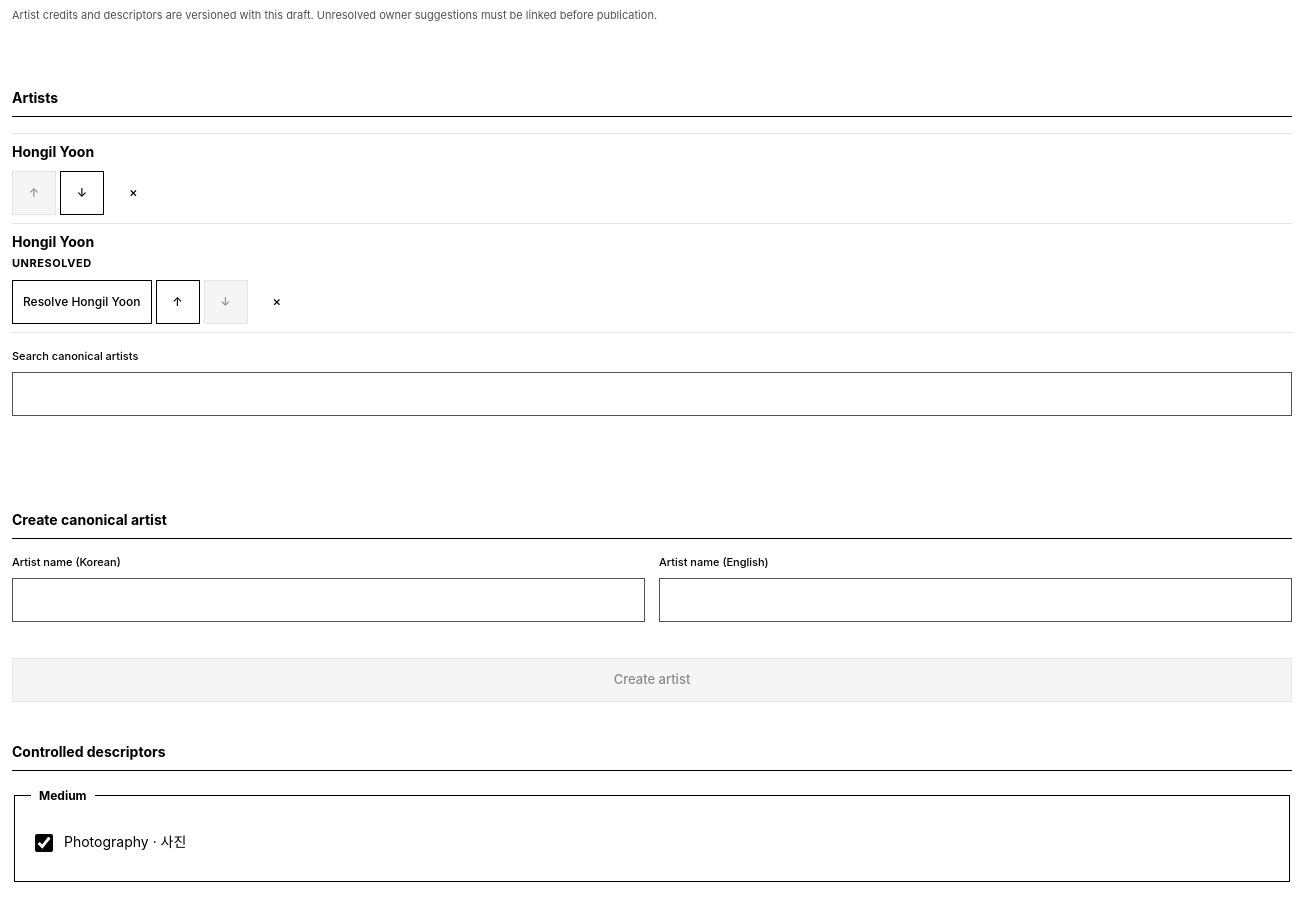
ExhibitionArtMetadataEditor › deduplicates an existing canonical credit when linking a suggestion
This screenshot has width=1304, height=900.
Click the button "Resolve Hongil Yoon": (82, 302) [12,280,152,324]
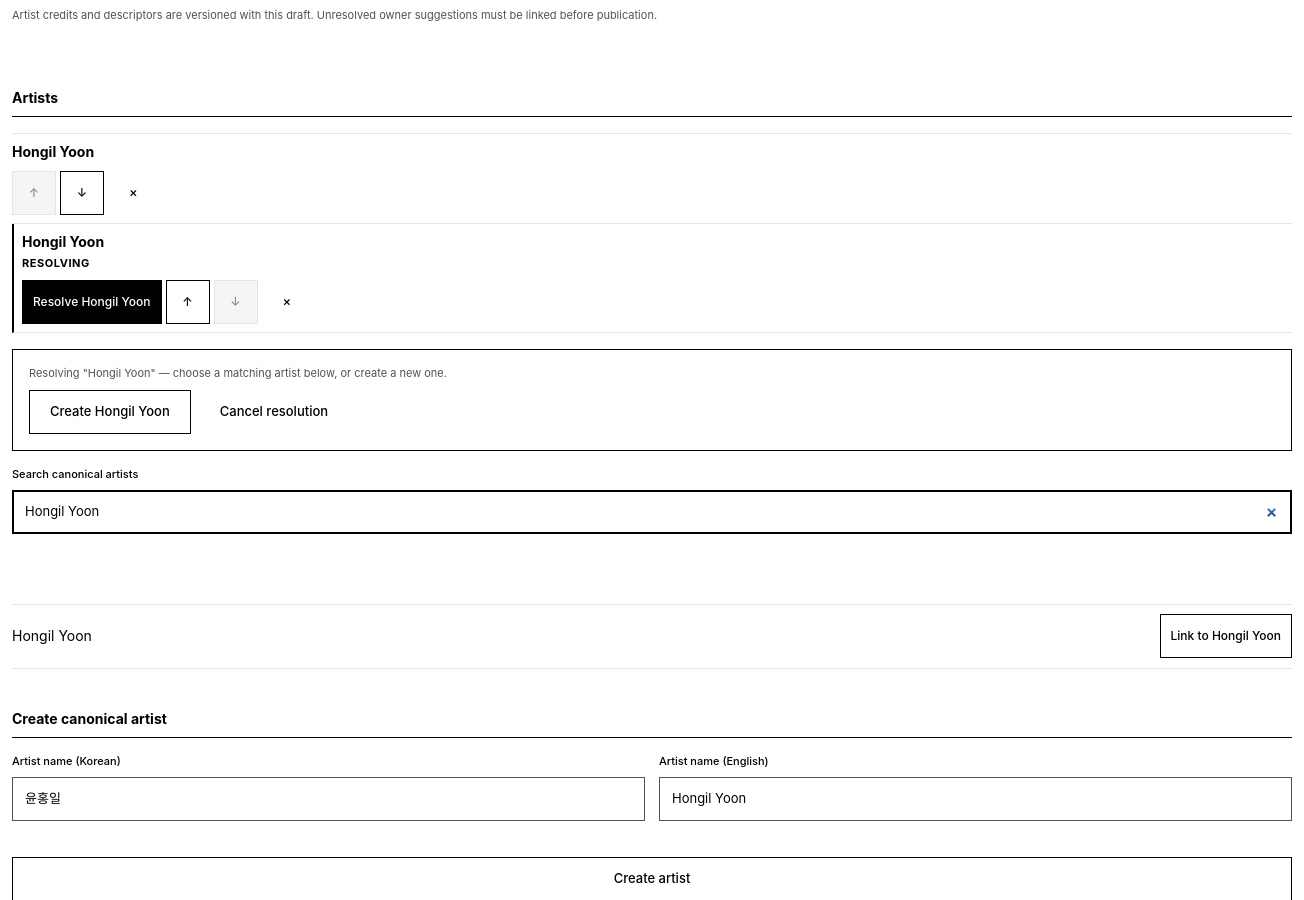
Click the button "Link to Hongil Yoon": (1226, 636) [1160,614,1292,658]
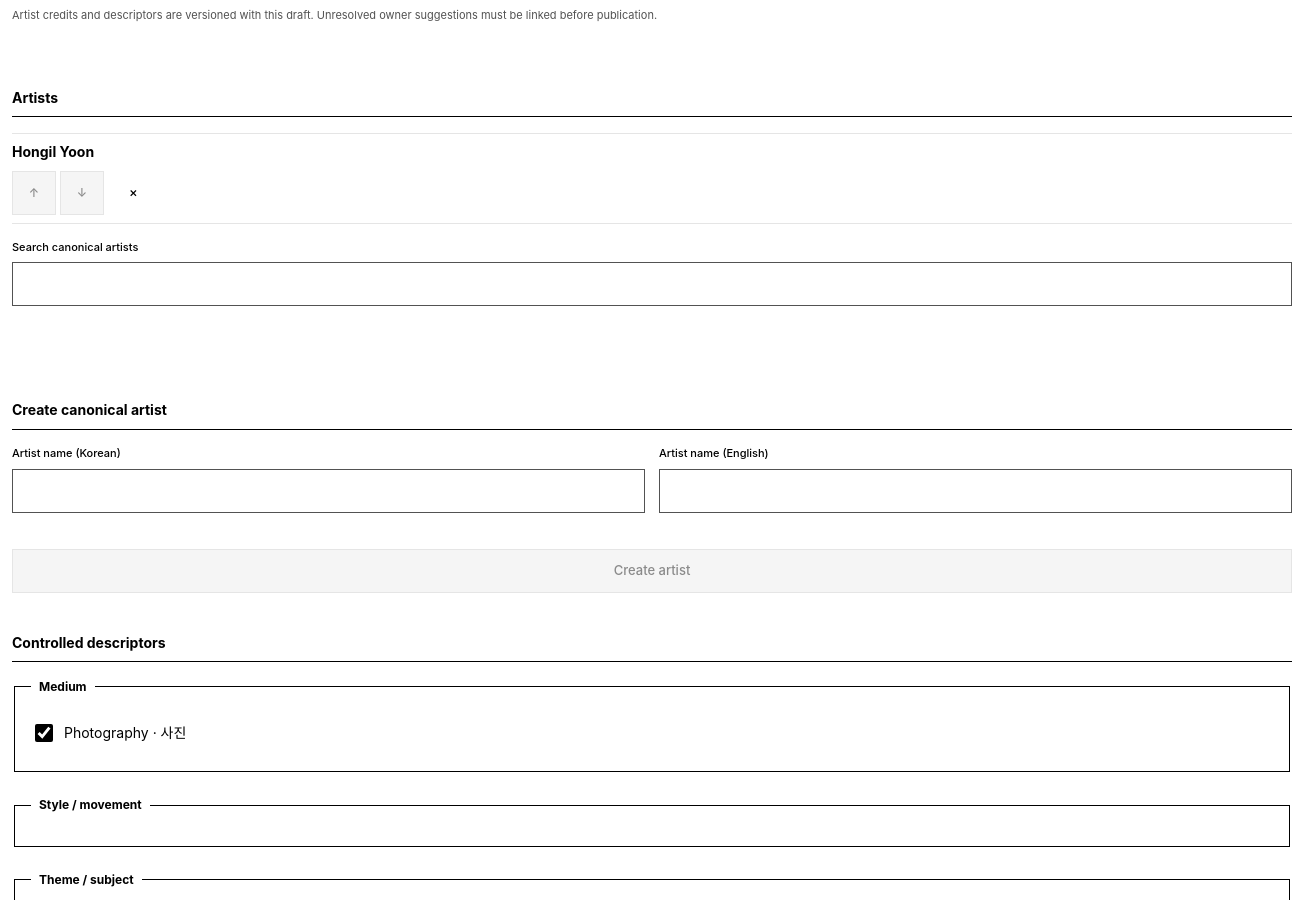
Check: the number of list items is 1, box [12,134,1292,224]
Check: the button "Cancel resolution" is gone
